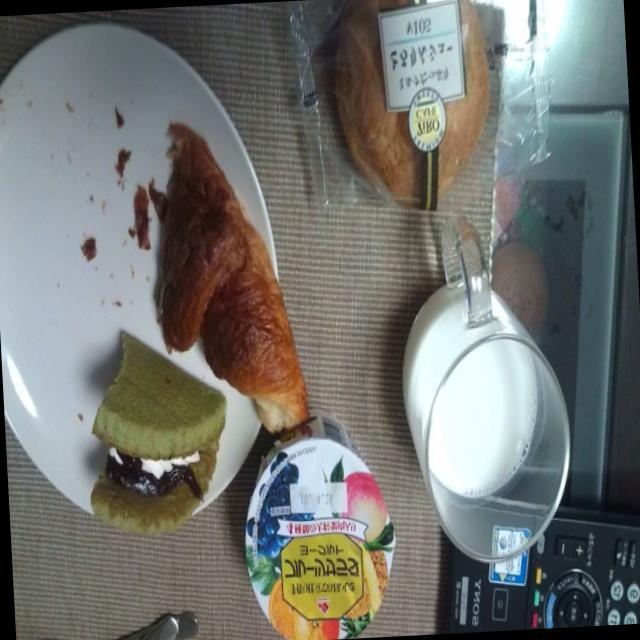Croissant: (154, 115, 308, 421)
